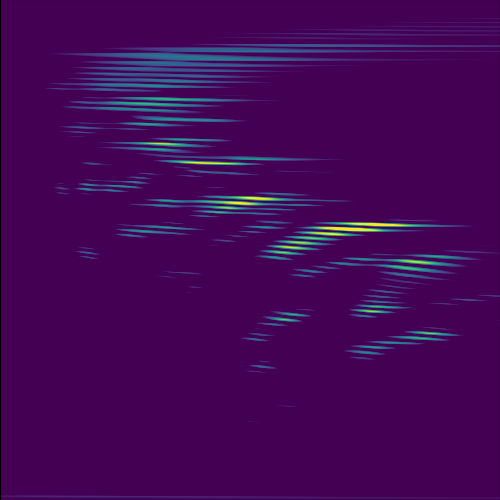semblance: (265, 216, 422, 257), (160, 148, 300, 179), (374, 247, 469, 288), (107, 132, 228, 156), (198, 190, 298, 219)
